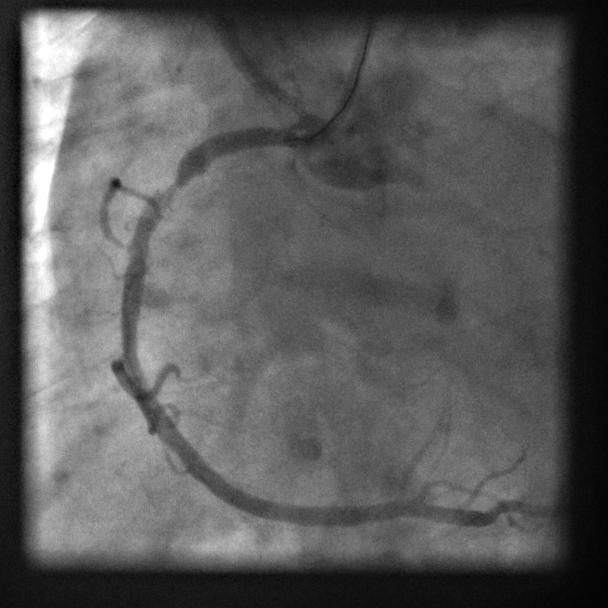Stenosis: (153, 158, 193, 220)
